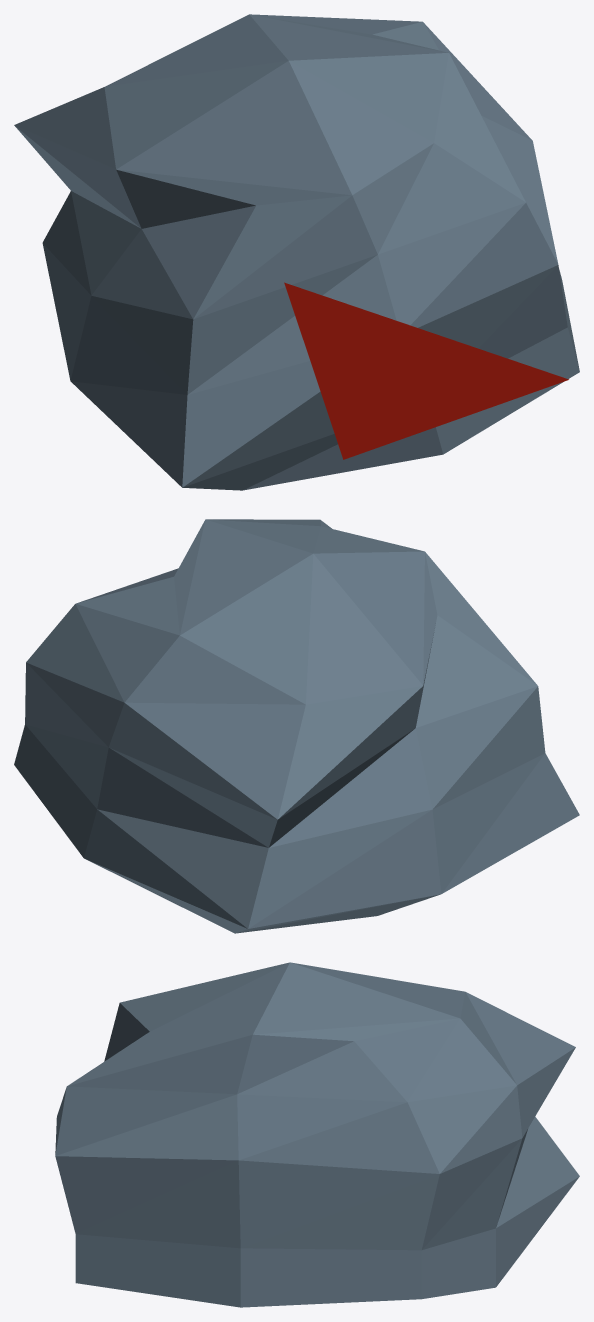
3 renders of one model, top to bottom at view 1: azimuth 30°, elevation 25°; view 2: azimuth 150°, elevation 25°; view 3: azimuth 270°, elevation 25°, orthographic. The views are drawn at different scales.
Size of the model in its own units: 0.3148 by 0.2331 by 0.3689.
Materials: 2 (2 with a texture image).
